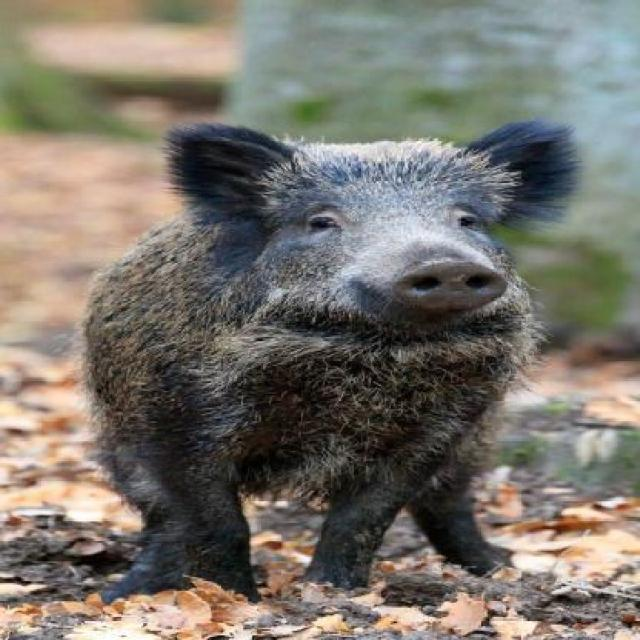wildboar: (70, 116, 588, 609)
